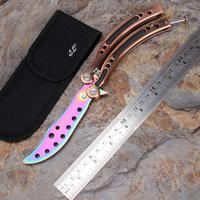knife: (20, 10, 173, 175)
